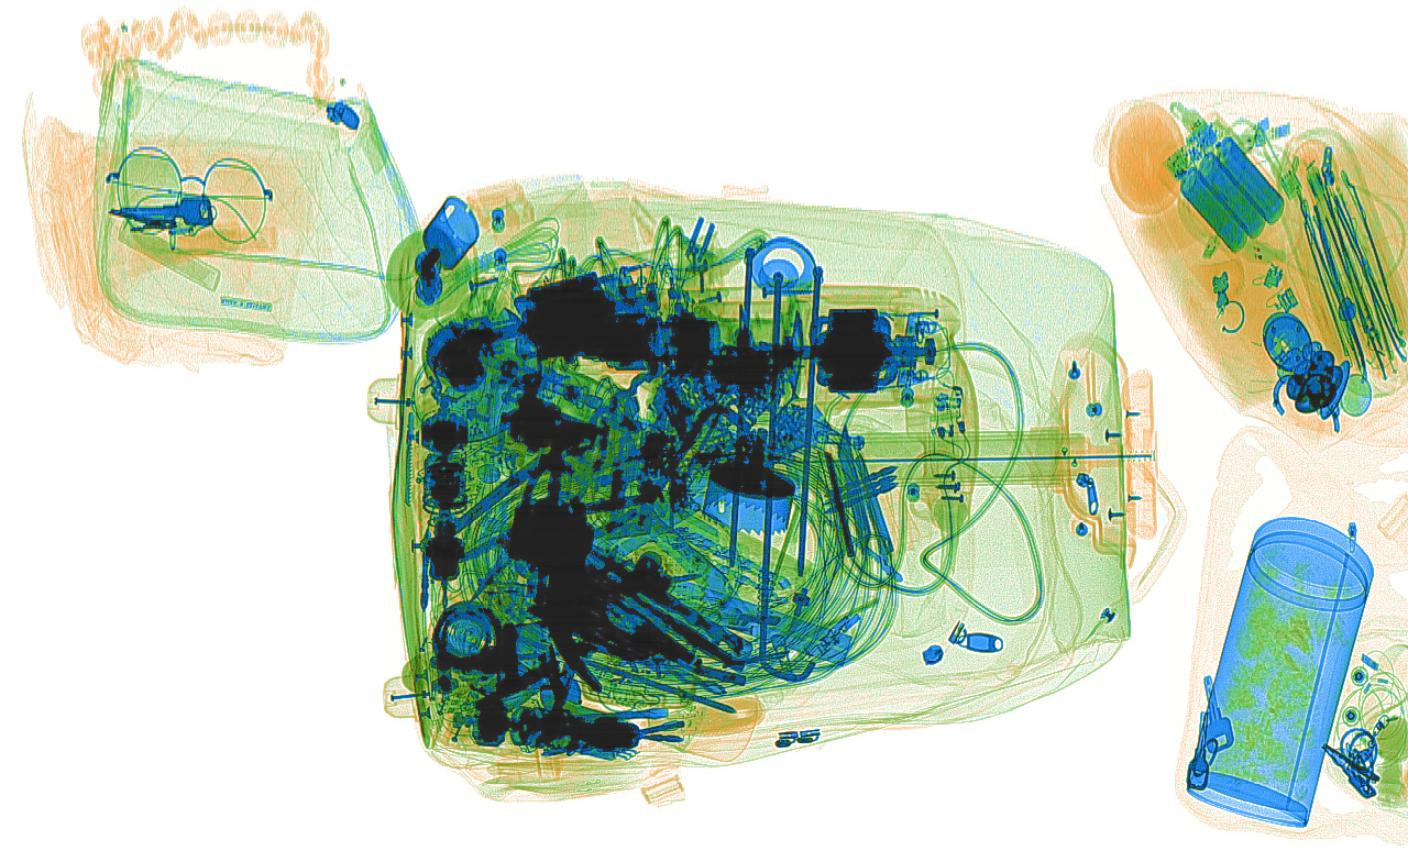battery: (1159, 120, 1289, 256)
knife: (836, 422, 873, 555), (852, 452, 894, 556)
